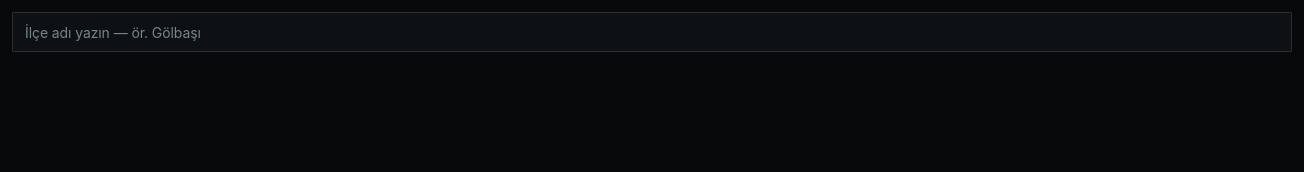
Test case: LocationTypeahead › eşleşme yoksa bunu söylüyor
The image size is (1304, 172).
Type "zzzz" into the search field at (652, 32), box [12,12,1292,52]
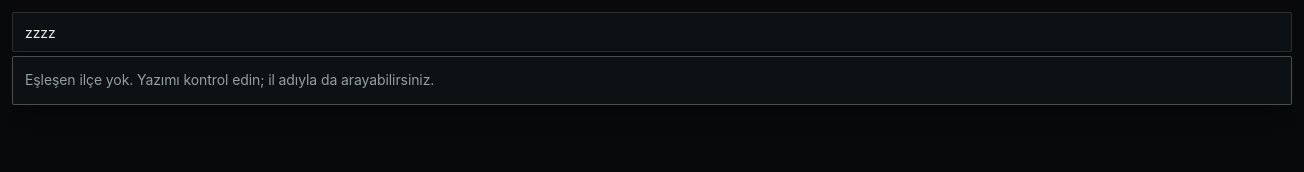
Now the text "Eşleşen ilçe yok" is shown, box [25,71,434,88]
